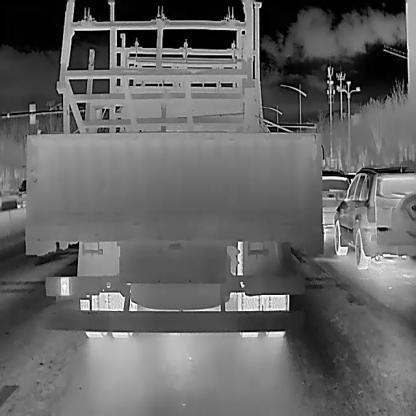car: (20, 46, 324, 338), (333, 163, 416, 271), (319, 169, 354, 233)
